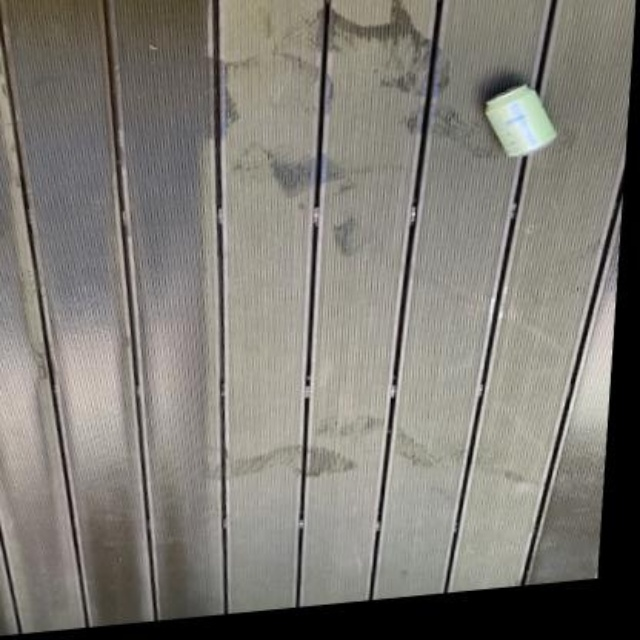trash: (485, 85, 555, 155)
